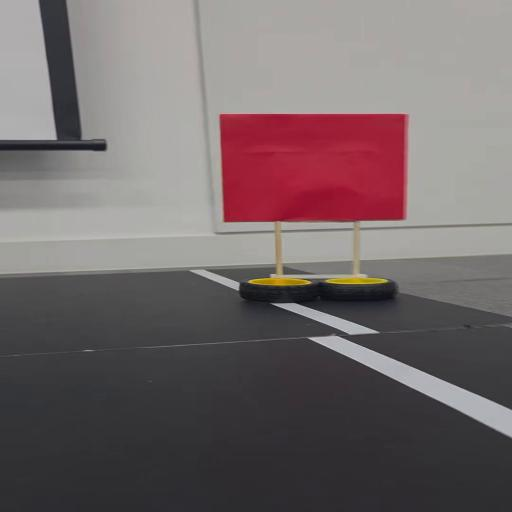Sign_A: (208, 105, 408, 311)
